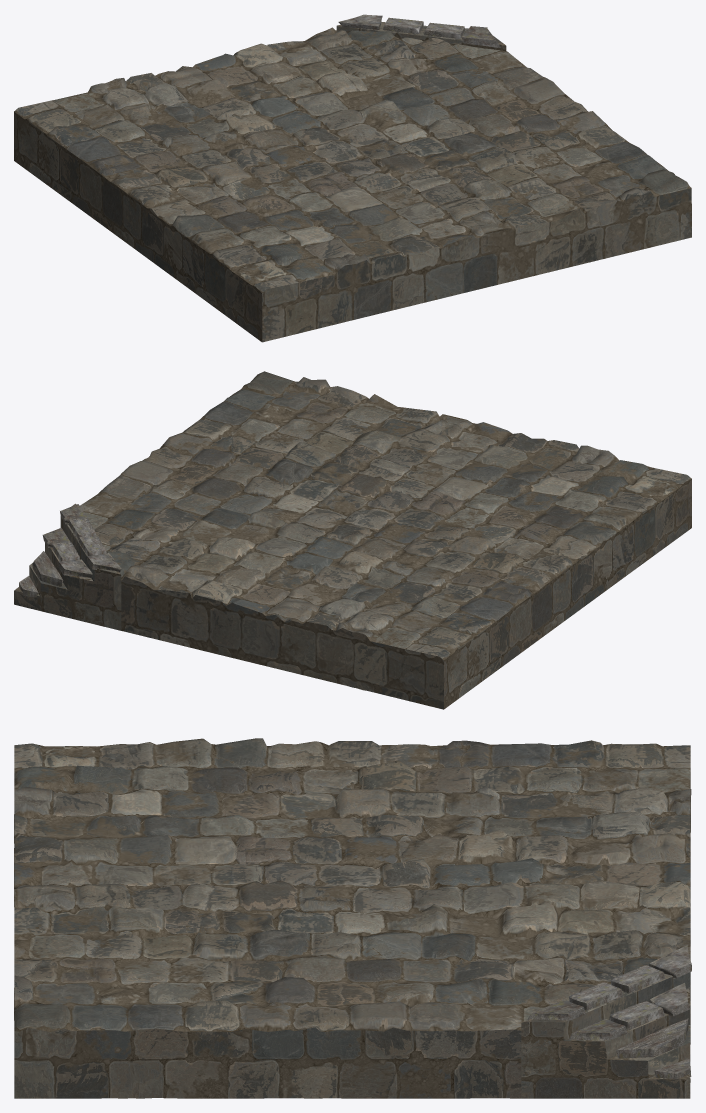
Rendered from SM_Walkway_InnerCorner_01.fbx.
3 views of the same model, one above another, from view 1: azimuth 30°, elevation 25°; view 2: azimuth 150°, elevation 25°; view 3: azimuth 270°, elevation 25° (orthographic). The views are drawn at different scales.
Parts seen in each view (by area): view 1: SM_Walkway_InnerCorner_01_LOD0; view 2: SM_Walkway_InnerCorner_01_LOD0; view 3: SM_Walkway_InnerCorner_01_LOD0.
Boxes of the visible parts, x1=… form: SM_Walkway_InnerCorner_01_LOD0: x1=14, y1=14, x2=691, y2=342; SM_Walkway_InnerCorner_01_LOD0: x1=14, y1=371, x2=691, y2=709; SM_Walkway_InnerCorner_01_LOD0: x1=14, y1=738, x2=691, y2=1098.
Bounding box in the file's own units: 402 × 401 × 55.19.
